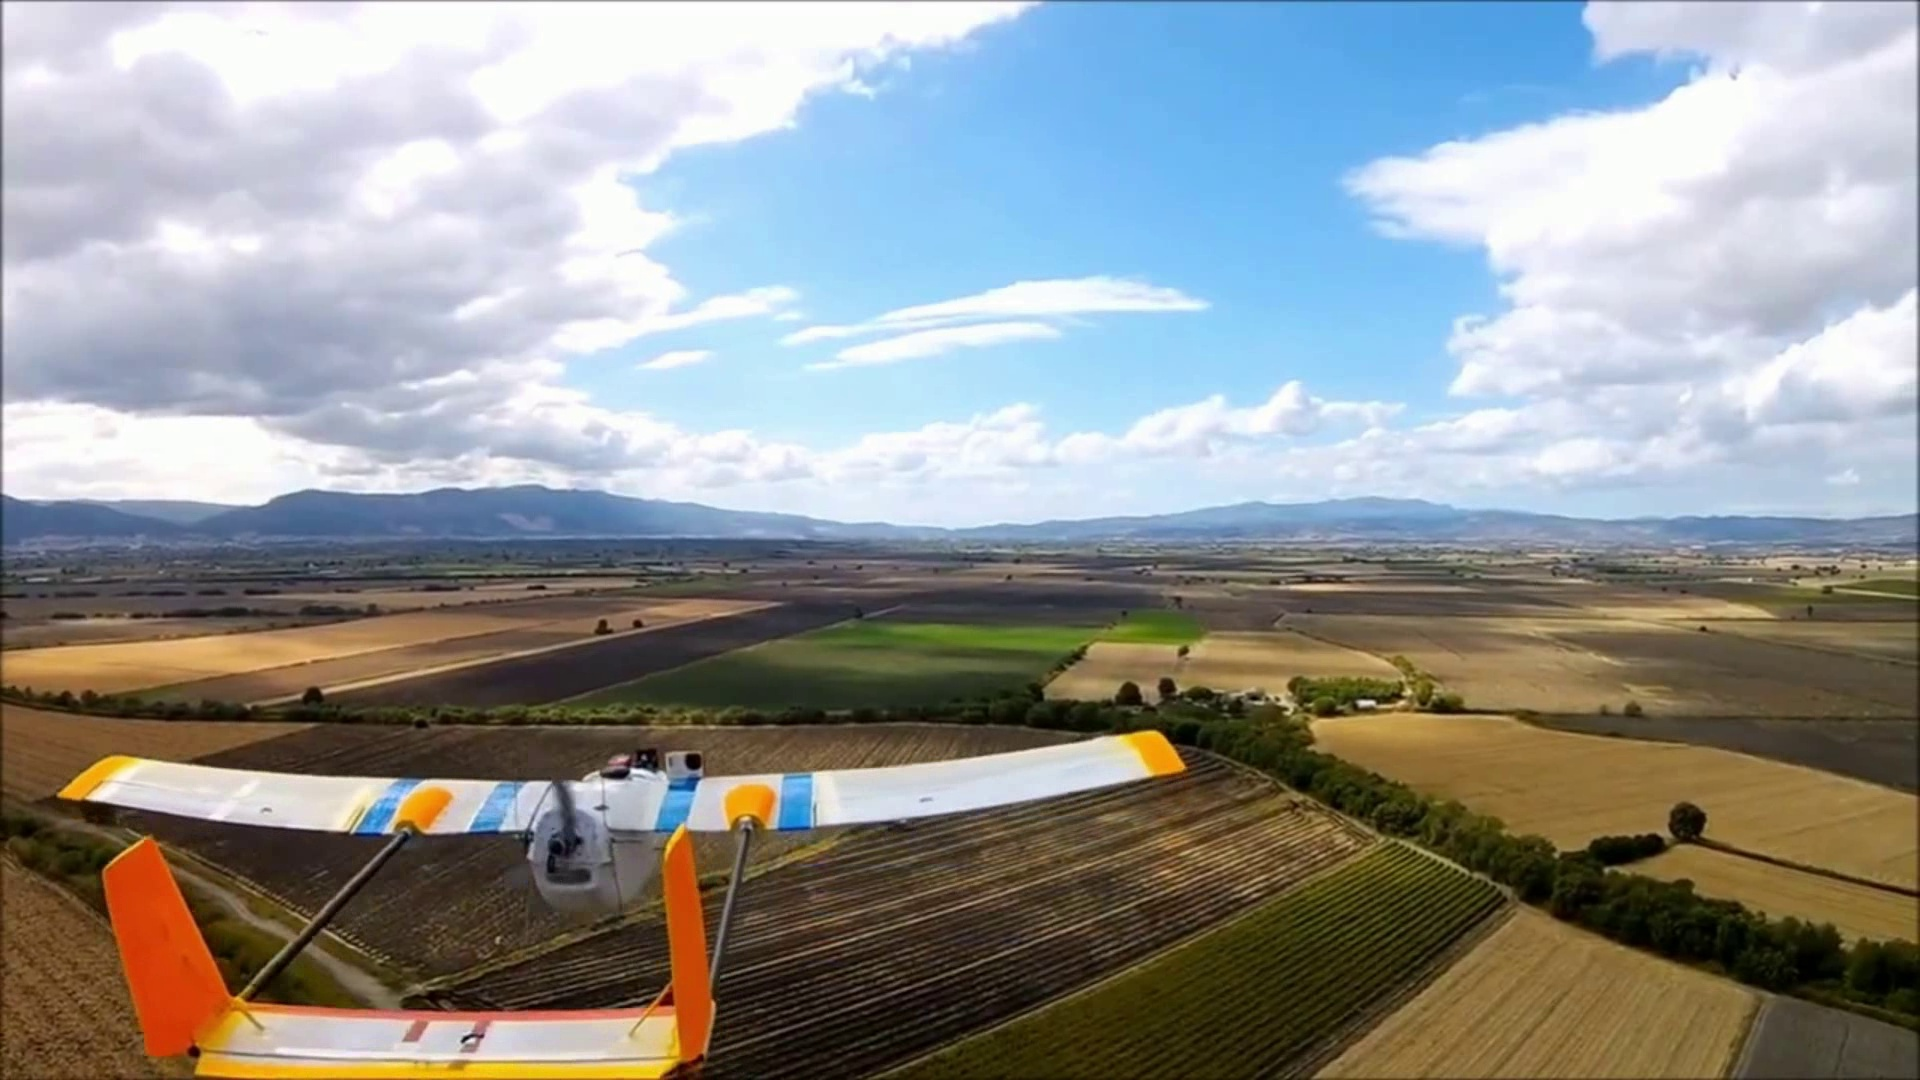airplane: (57, 732, 1190, 1070), (68, 733, 1178, 907)
